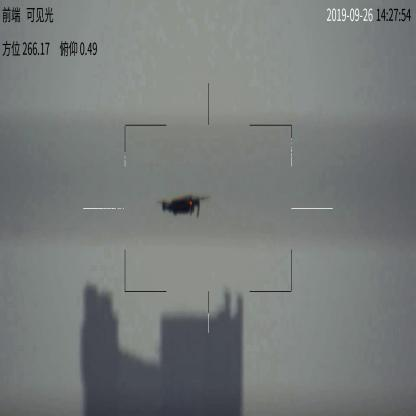uav: (152, 191, 206, 220)
